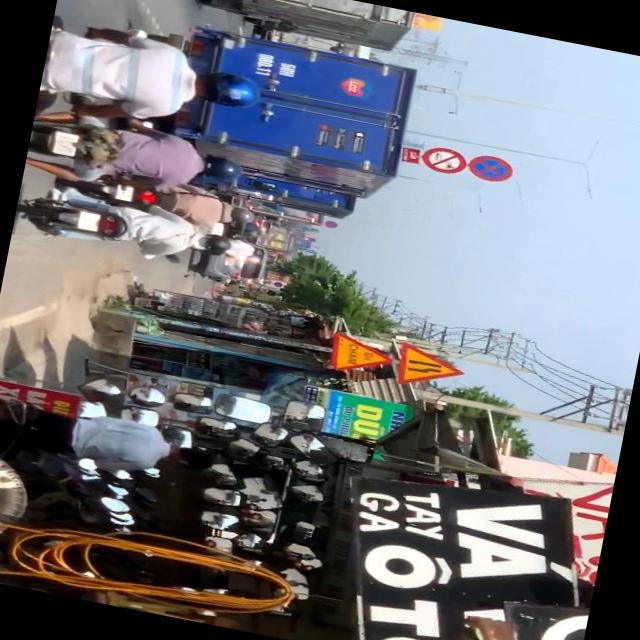P-130: (466, 154, 514, 184)
W-203c: (394, 343, 468, 392)
W-245a: (328, 331, 395, 380)
